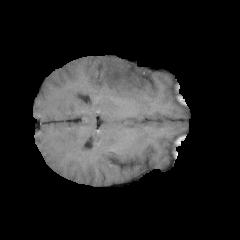glioma: (100, 60, 147, 97)
